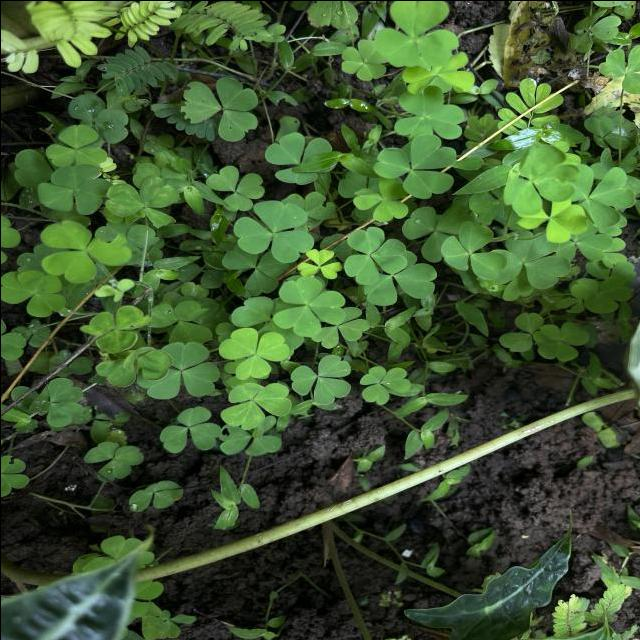Oxalis corniculata: (38, 218, 132, 284), (371, 132, 457, 199), (232, 198, 314, 264), (178, 75, 258, 142), (136, 341, 218, 400), (271, 276, 345, 337), (104, 174, 180, 228), (440, 220, 508, 280), (392, 84, 464, 140), (262, 130, 334, 186), (36, 162, 112, 215), (217, 326, 290, 380), (343, 225, 406, 285), (218, 380, 290, 430), (290, 352, 352, 404), (0, 270, 66, 318), (157, 404, 220, 454), (44, 123, 108, 169), (516, 200, 586, 242), (204, 164, 264, 212), (87, 304, 144, 352), (350, 178, 410, 222), (82, 440, 143, 482), (569, 274, 631, 314), (531, 320, 589, 361), (340, 37, 390, 81), (358, 364, 410, 404), (296, 247, 342, 279)
